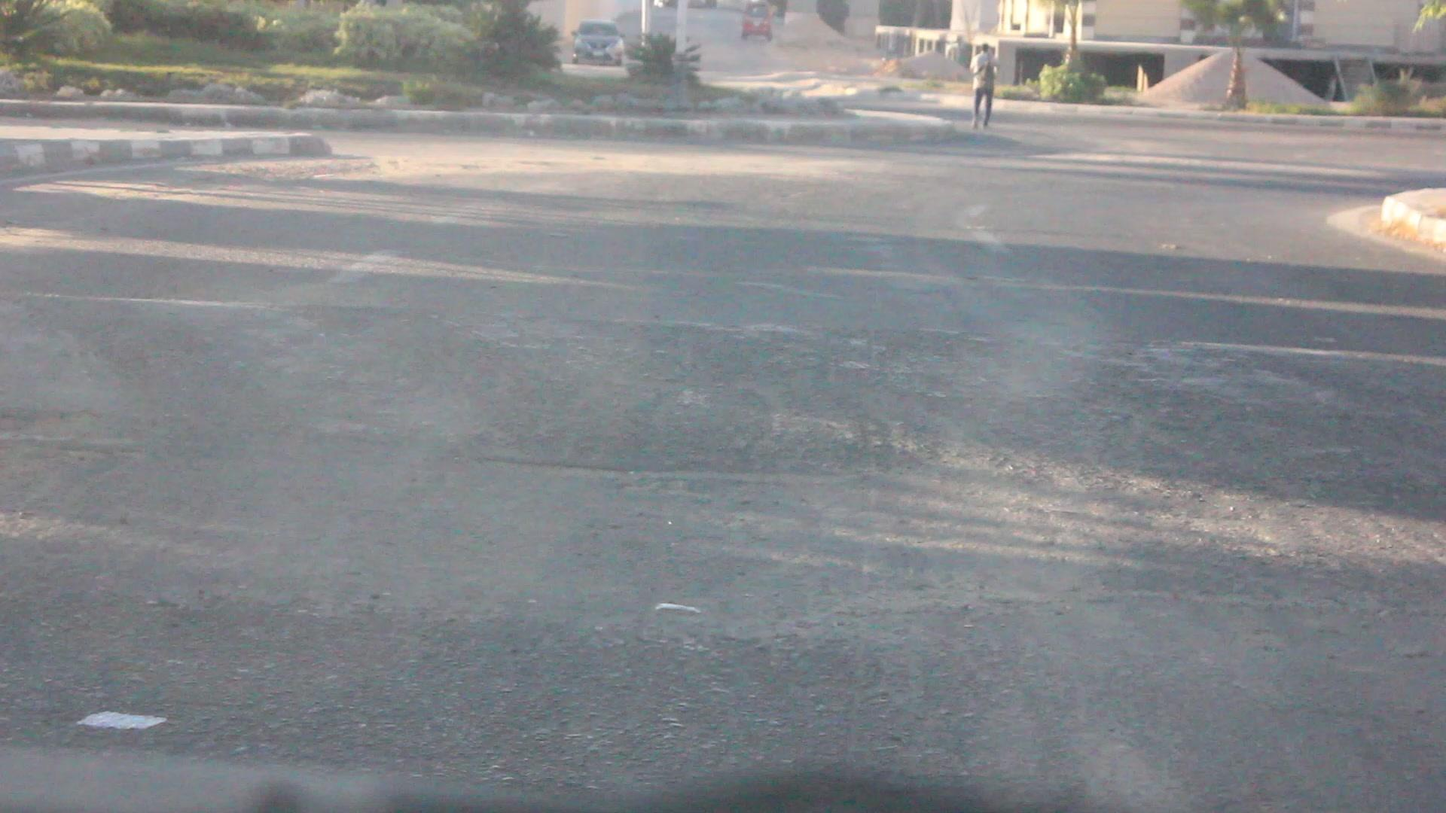Bump: (0, 289, 1445, 508)
